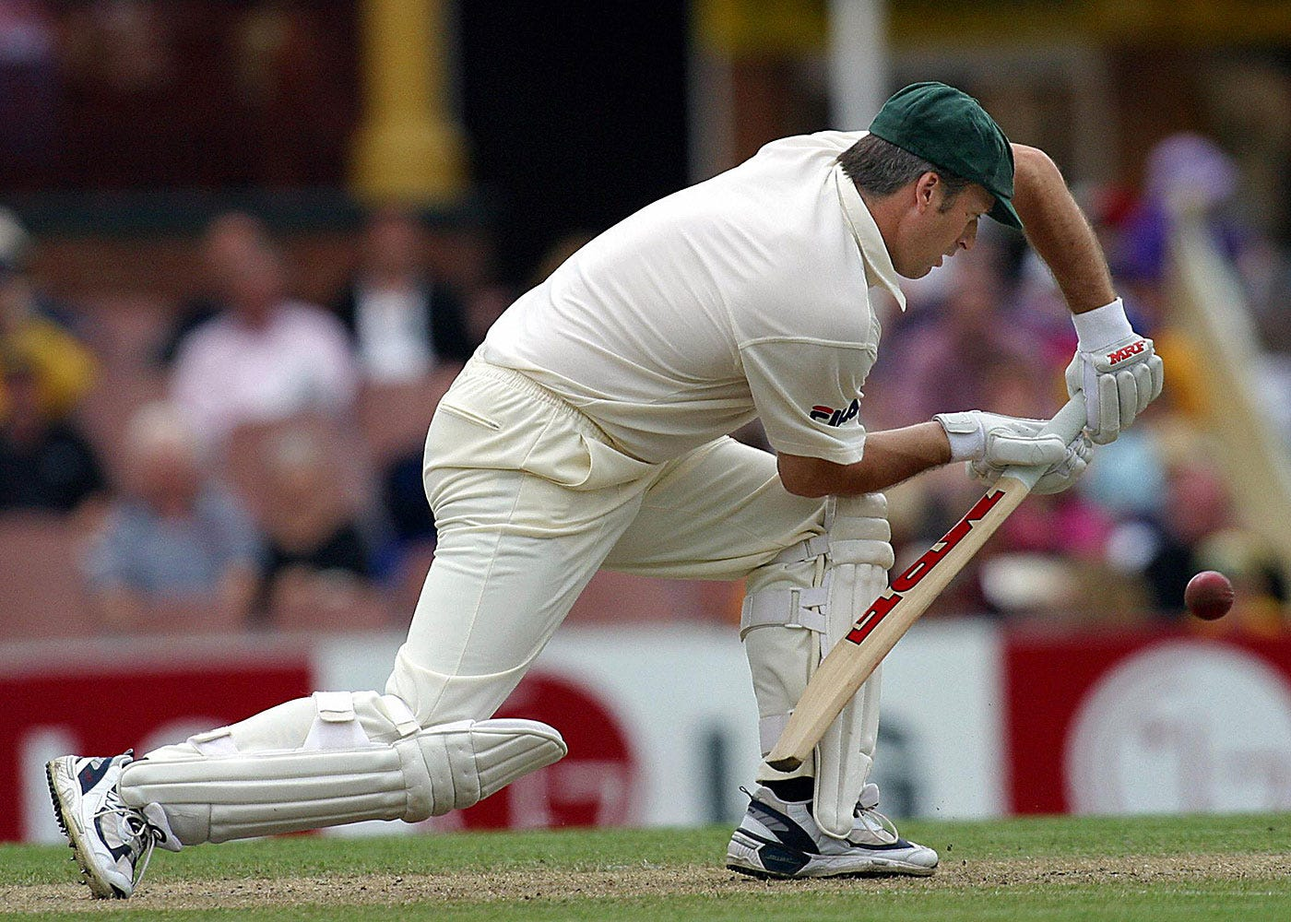Defence: (18, 22, 1265, 922)
